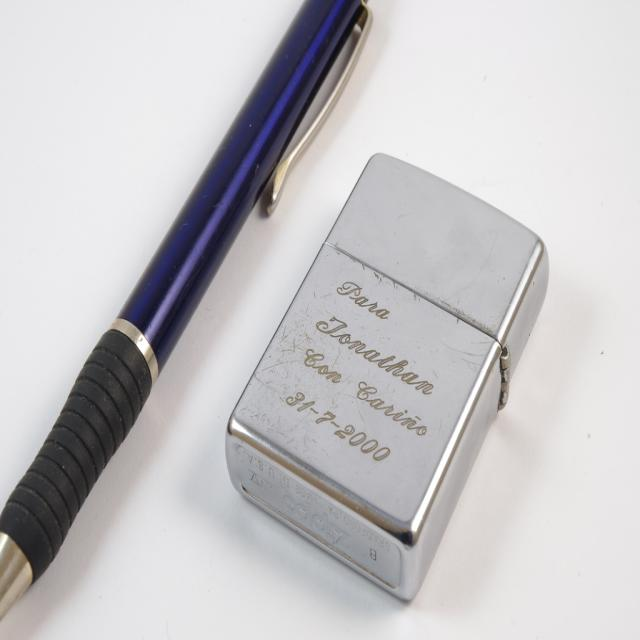pen: (0, 0, 372, 621)
